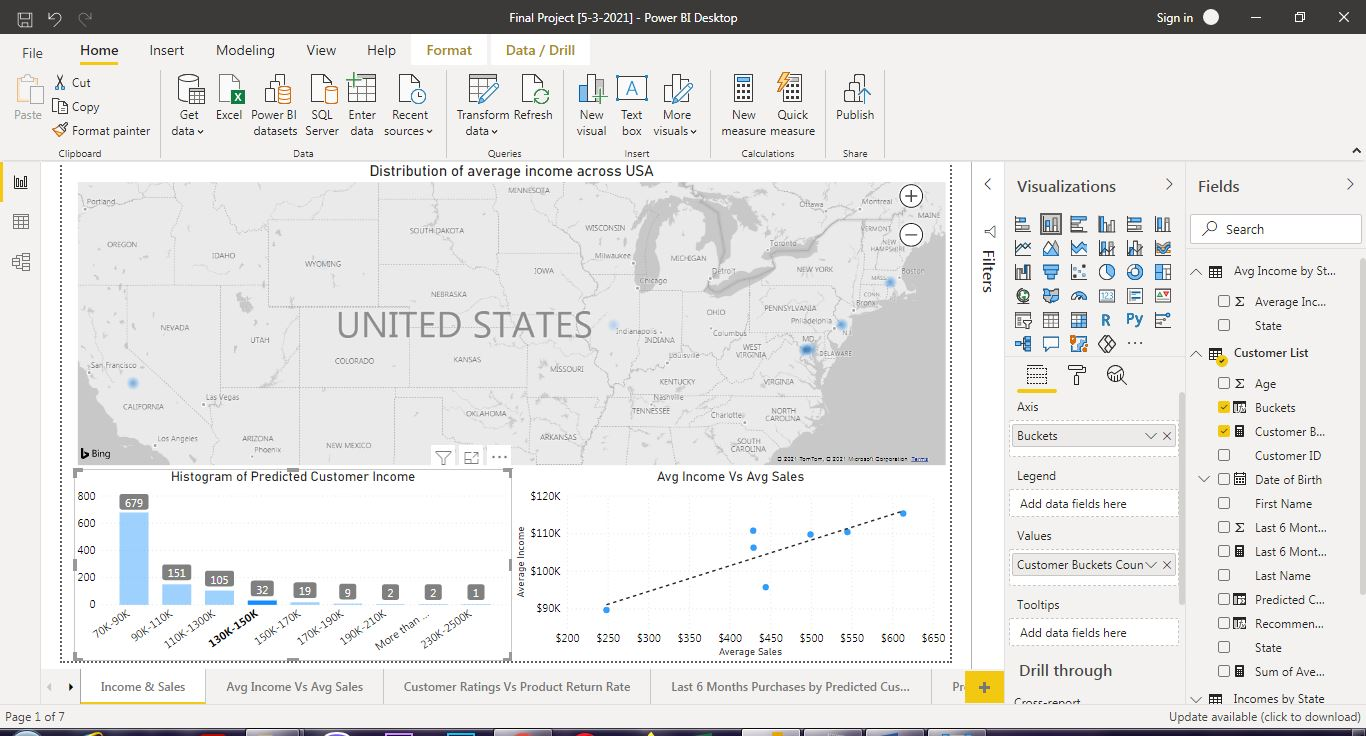

Layout of this report page (visuals, bound fields, positions):
{"tool":"powerbi","page":{"name":"Income & Sales","canvas":[1280,720],"ordinal":0},"visuals":[{"type":"map","title":"Distribution of average income across USA","fields":{"Size":["Sum(Regression Table.Average Income)"],"Category":["Regression Table.State"]},"box":[17.3,0,1262.5,443],"z":0},{"type":"columnChart","title":"Histogram of Predicted Customer Income","fields":{"Y":["Customer List.Customer Buckets Count"],"Category":["Customer List.Buckets"]},"box":[17.3,443,632,277],"z":1000},{"type":"scatterChart","title":"Avg Income Vs Avg Sales","fields":{"X":["Regression Table.Average Sales"],"Y":["Regression Table.Average Income"]},"box":[649.3,443,630.5,277],"z":2000}]}

Visuals, with their boxes on the page's 1280x720 design canvas (x1, y1, x2, y2). These are canvas units, not pixel positions in the 1366x736 screenshot, which may show the page scaled, cropped or inside an application window:
"Distribution of average income across USA" map: (left=17, top=0, right=1280, bottom=443)
"Histogram of Predicted Customer Income" columnChart: (left=17, top=443, right=649, bottom=720)
"Avg Income Vs Avg Sales" scatterChart: (left=649, top=443, right=1280, bottom=720)
